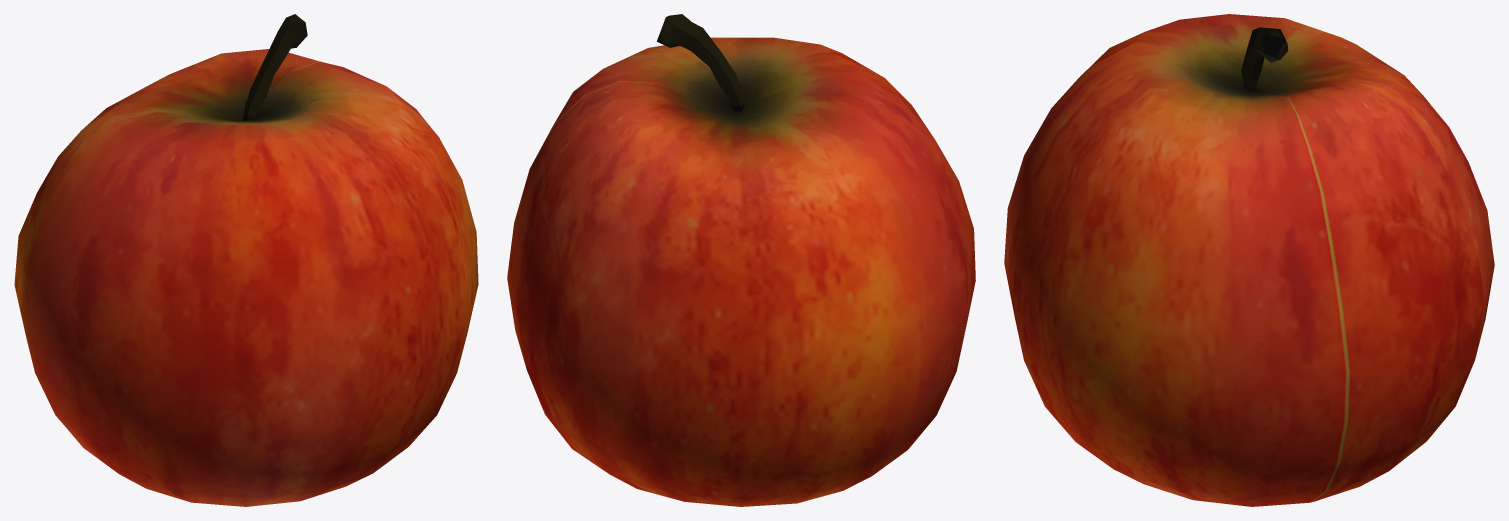
File: AppleRed.fbx
3 views of the same model, side by side, from view 1: azimuth 30°, elevation 25°; view 2: azimuth 150°, elevation 25°; view 3: azimuth 270°, elevation 25° (orthographic). The views are drawn at different scales.
Visible parts, largest first — view 1: Default_Layer; view 2: Default_Layer; view 3: Default_Layer.
Part boxes in pixels (x1,y1,x2,y2): Default_Layer: (14, 14, 478, 506); Default_Layer: (507, 14, 975, 506); Default_Layer: (1004, 14, 1494, 506).
Bounding box in the file's own units: 100 × 102 × 98.54.
